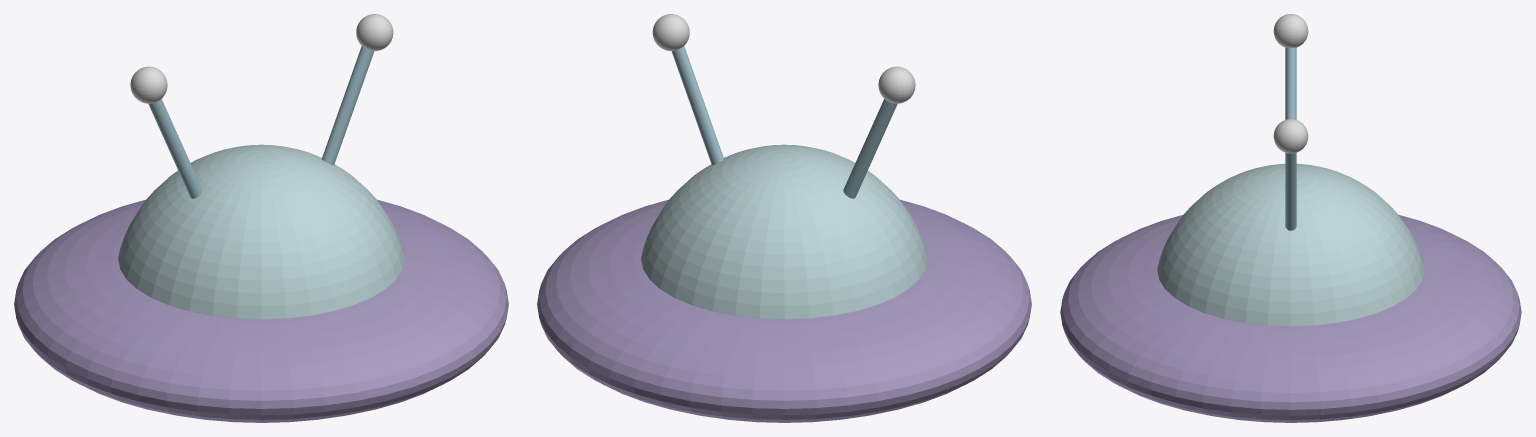
Rendered from low_poly_spaceships.glb.
3 renders of one model, left to right at view 1: azimuth 30°, elevation 25°; view 2: azimuth 150°, elevation 25°; view 3: azimuth 270°, elevation 25°, orthographic. The views are drawn at different scales.
Visible parts, largest first — view 1: Mesh_Mesh_head_geo.001_lambert2SG.001; view 2: Mesh_Mesh_head_geo.001_lambert2SG.001; view 3: Mesh_Mesh_head_geo.001_lambert2SG.001.
Boxes of the visible parts, x1,y1,x2,y2 form: Mesh_Mesh_head_geo.001_lambert2SG.001: (14, 14, 508, 422); Mesh_Mesh_head_geo.001_lambert2SG.001: (537, 14, 1031, 422); Mesh_Mesh_head_geo.001_lambert2SG.001: (1060, 14, 1521, 422).
Size of the model in its own units: 0.02 by 0.0143 by 0.02.
